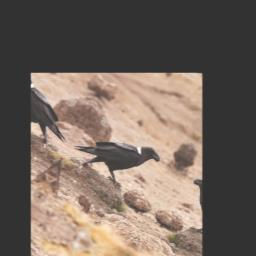Crow: (65, 111, 165, 204)
